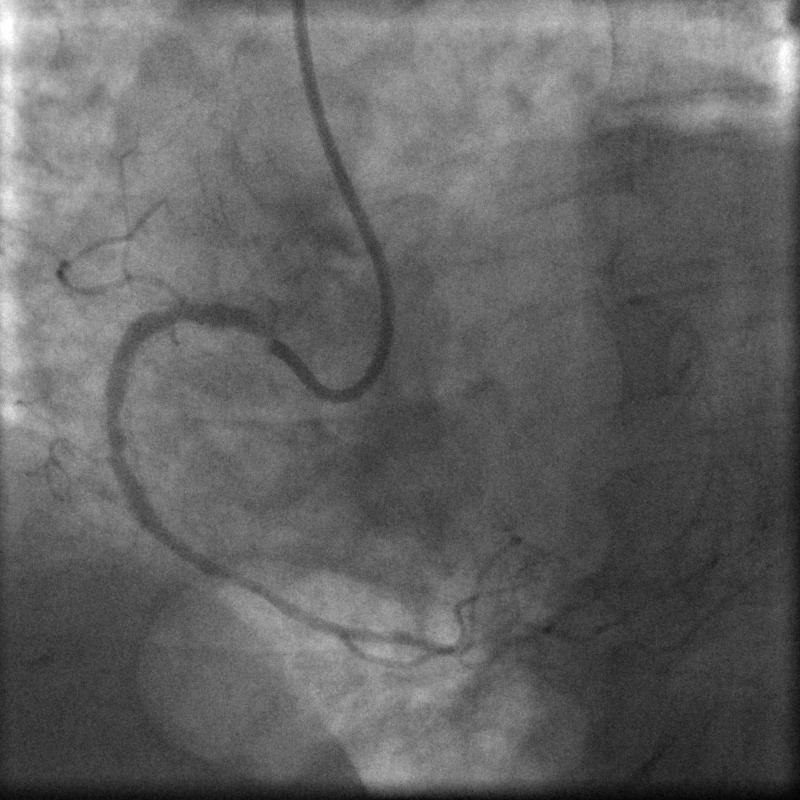Stenosis: (105, 408, 139, 494)
